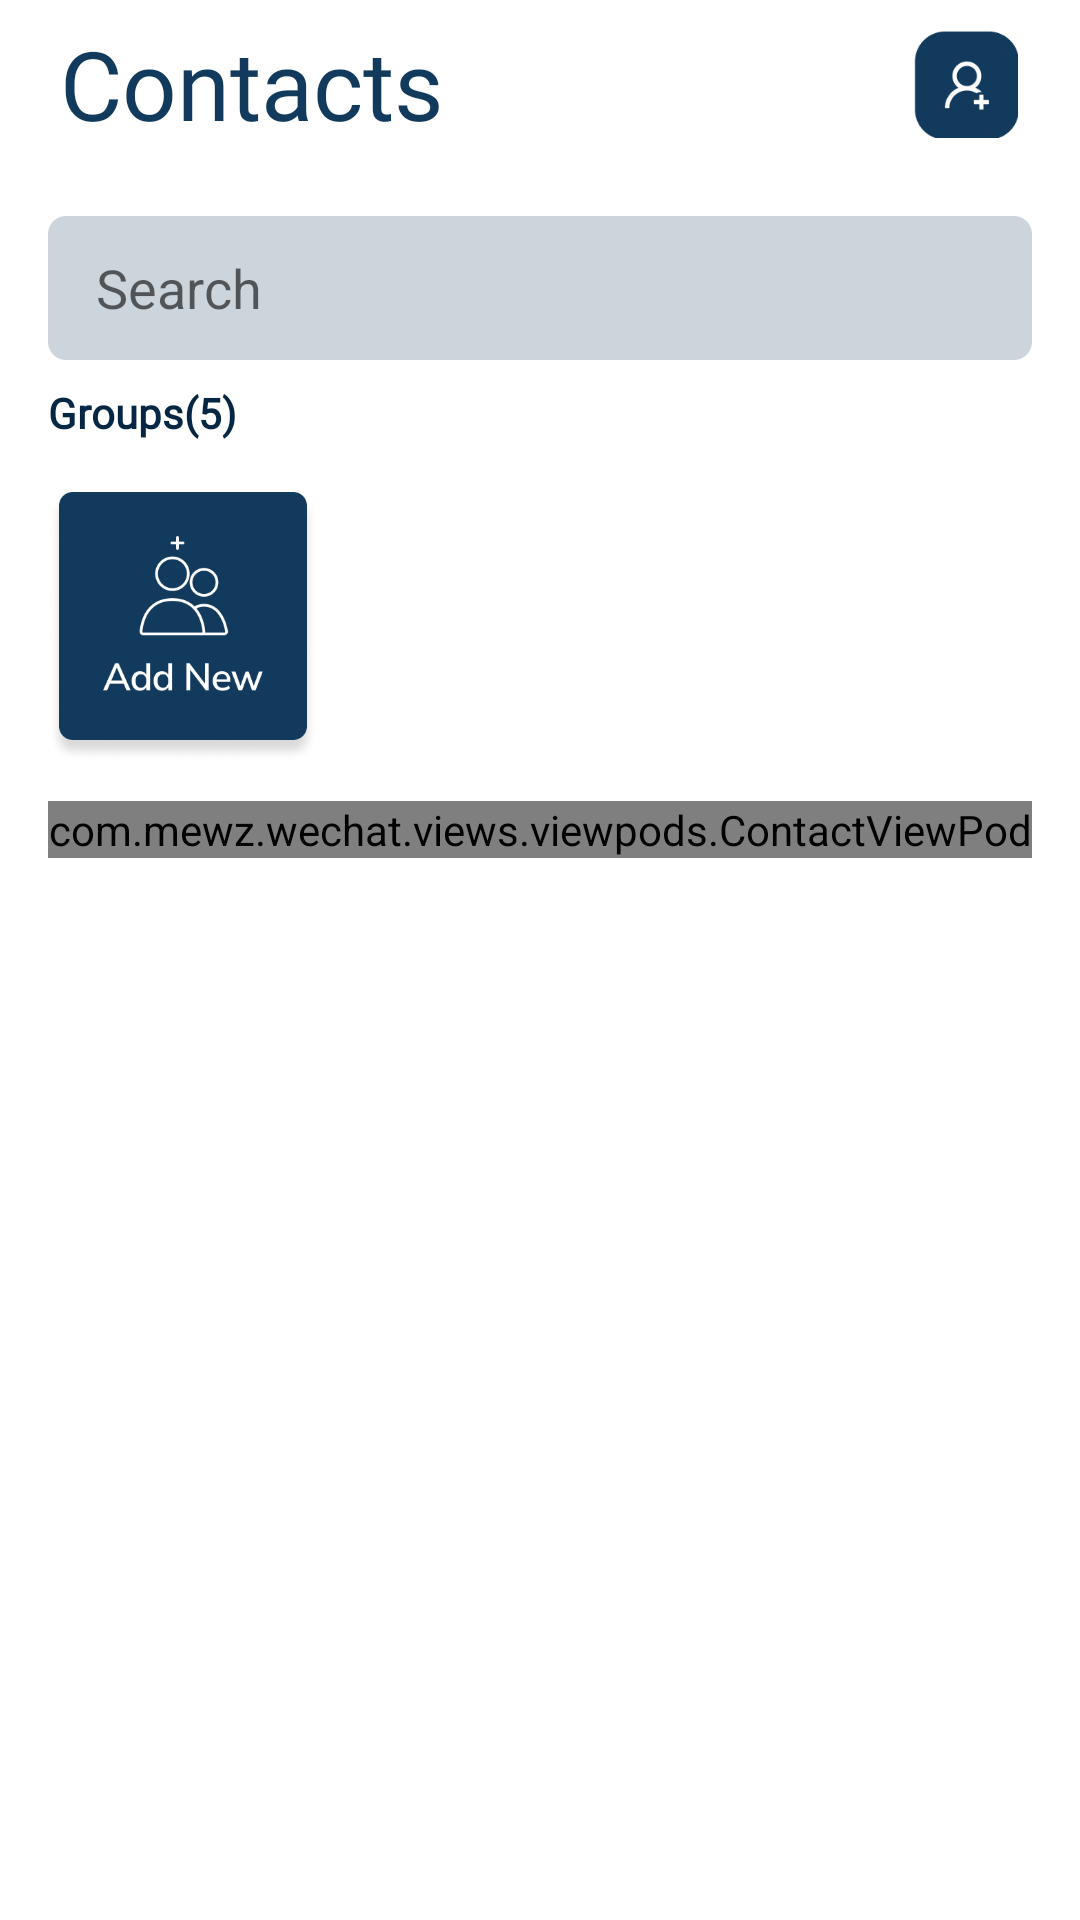

Where to tap for icons on this 1080*1920 app screen, as [x,y]:
add friend: [966,84]
add group: [183,620]
